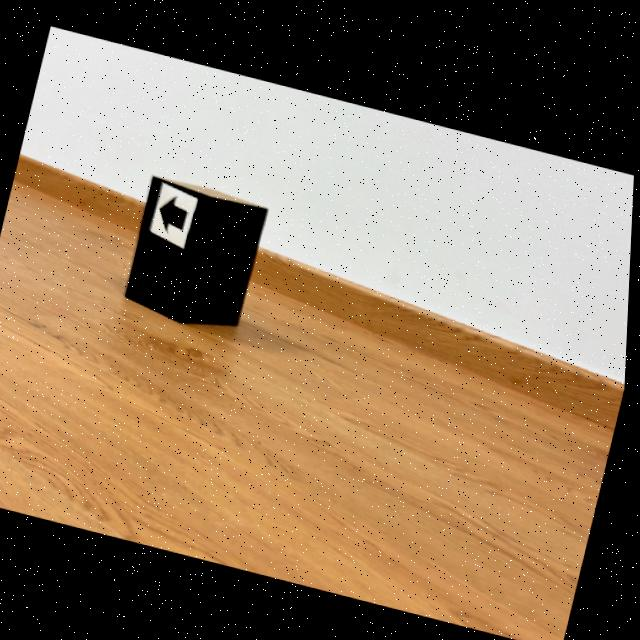LEFT: (162, 195, 190, 229)
